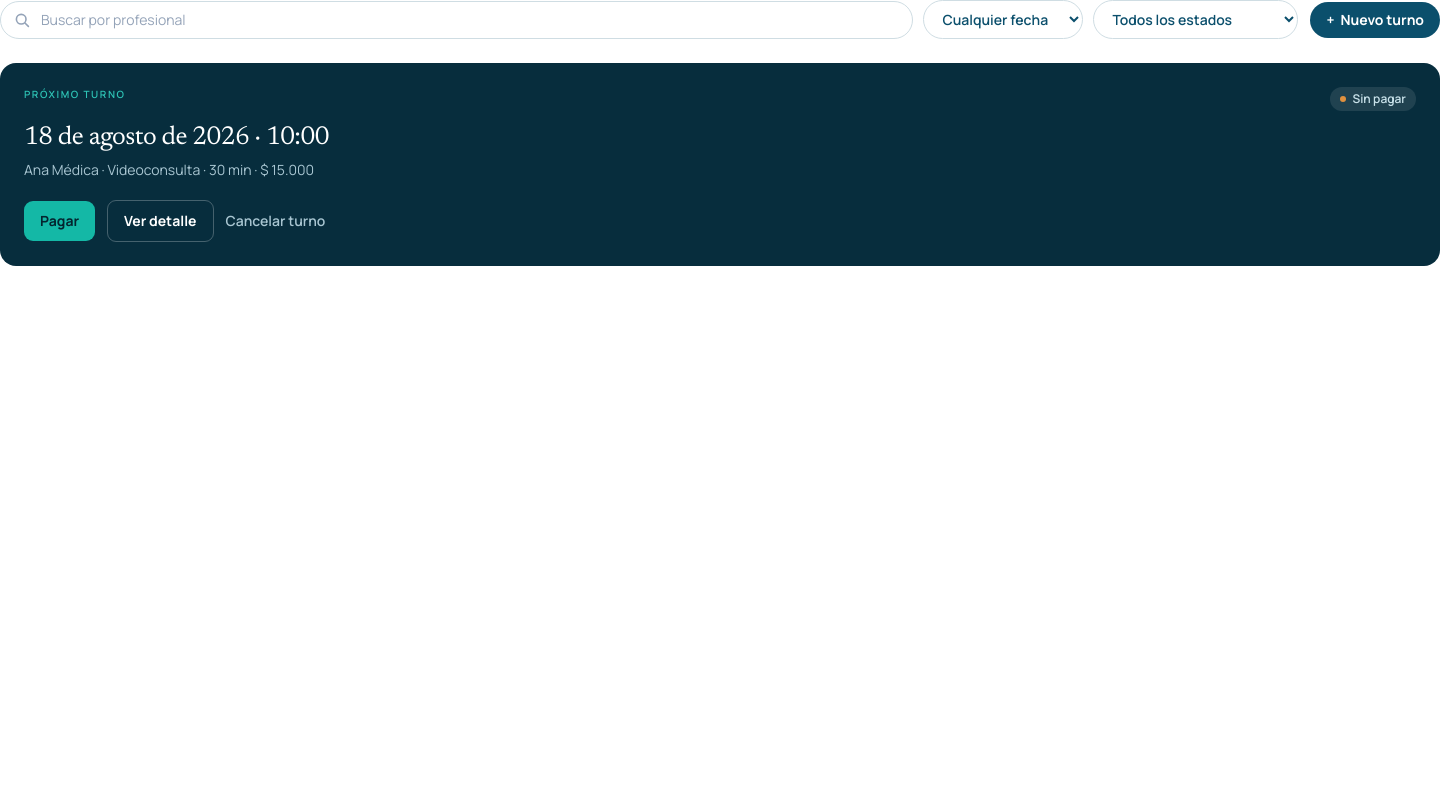
Test case: MyAppointments (ENG-178) › "Mantener el turno" cierra el modal sin cancelar
What coordinates should you click on to do the following:
click the button "Cancelar turno"
I would click on:
 (275, 221)
Its box is x1=226 y1=211 x2=325 y2=231.
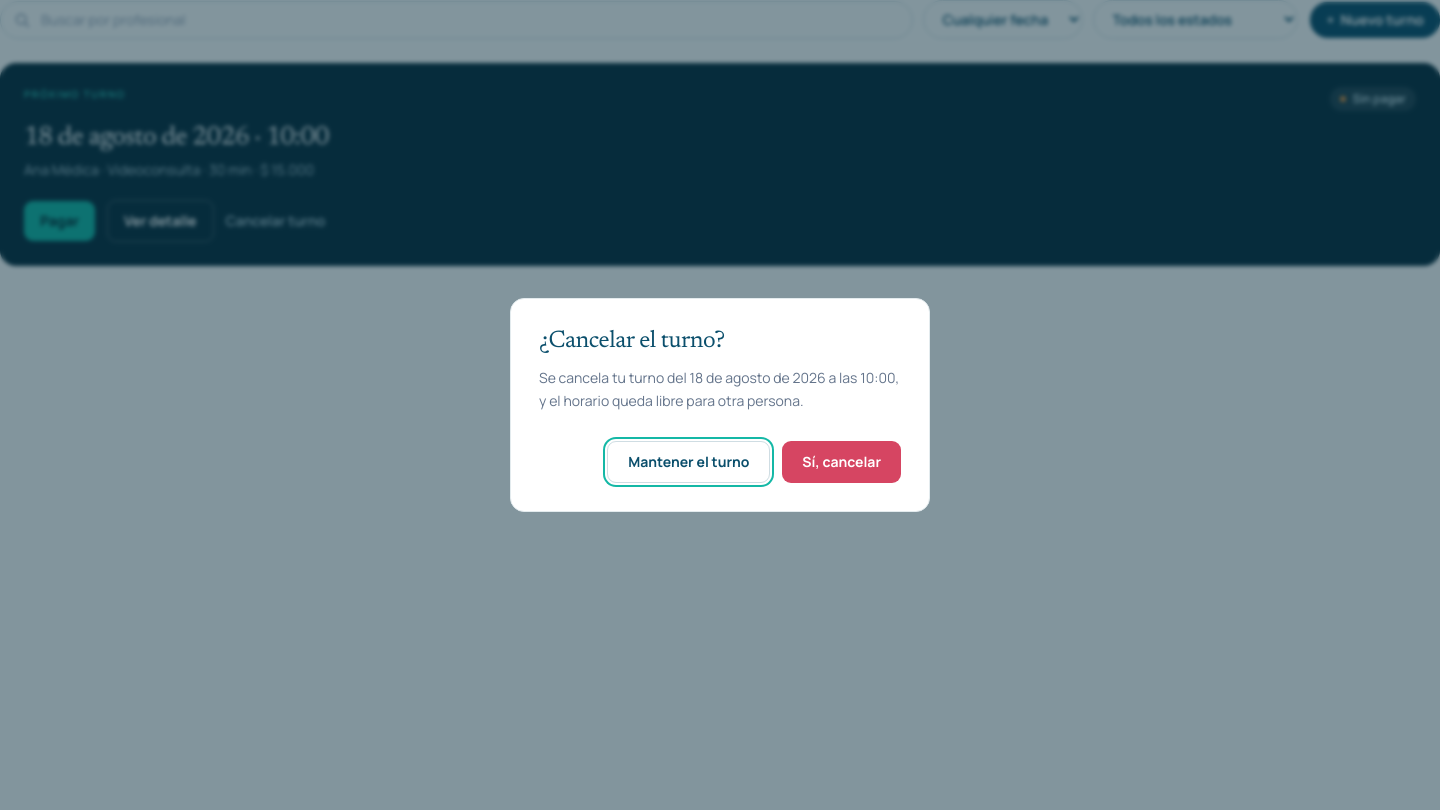
What coordinates should you click on to do the following:
click the button "Mantener el turno"
I would click on:
 (689, 462)
Its box is x1=607 y1=441 x2=770 y2=483.
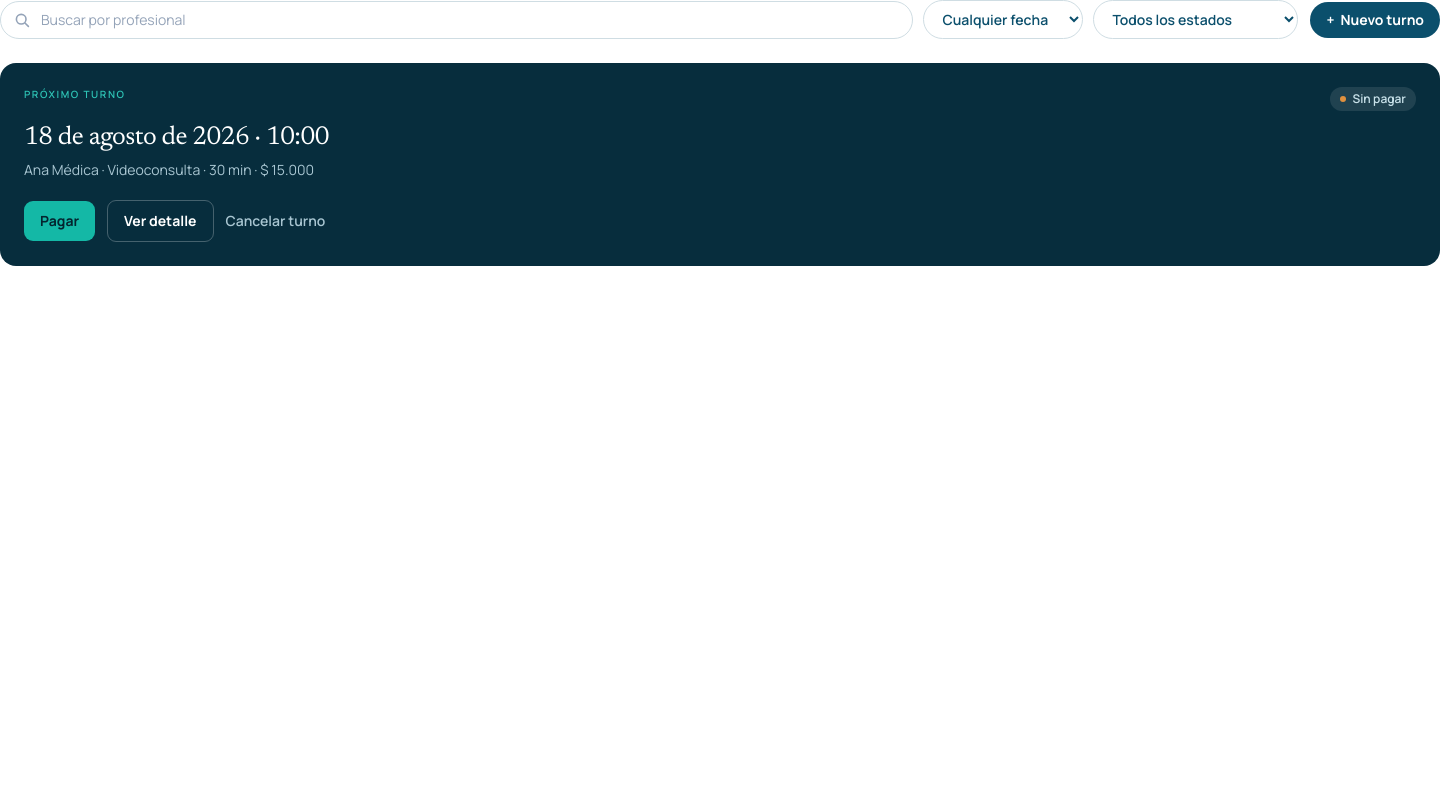
Expected: the dialog is gone
